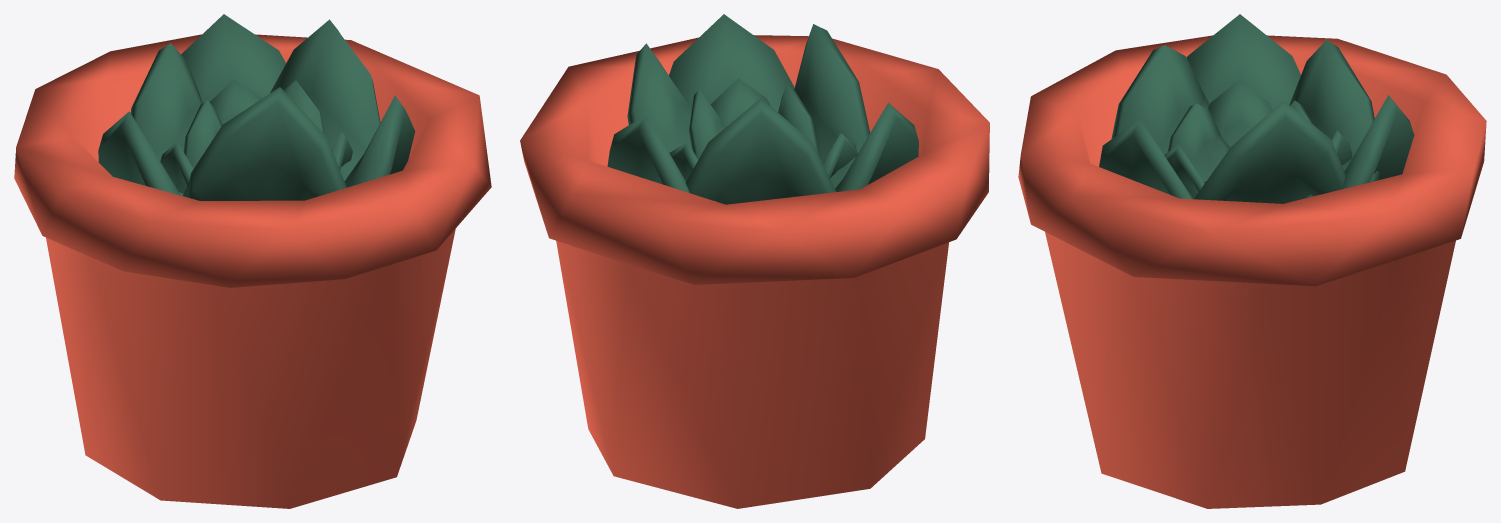
Rendered from Succulent.fbx.
The picture shows the model from 3 angles, left to right: view 1: azimuth 30°, elevation 25°; view 2: azimuth 150°, elevation 25°; view 3: azimuth 270°, elevation 25°; orthographic projection.
Visible parts, largest first — view 1: Cylinder.026; view 2: Cylinder.026; view 3: Cylinder.026.
Boxes of the visible parts, x1=… form: Cylinder.026: x1=14, y1=14, x2=491, y2=508; Cylinder.026: x1=520, y1=14, x2=989, y2=508; Cylinder.026: x1=1018, y1=14, x2=1486, y2=508.
Size of the model in its own units: 34.08 by 30.5 by 33.42.
